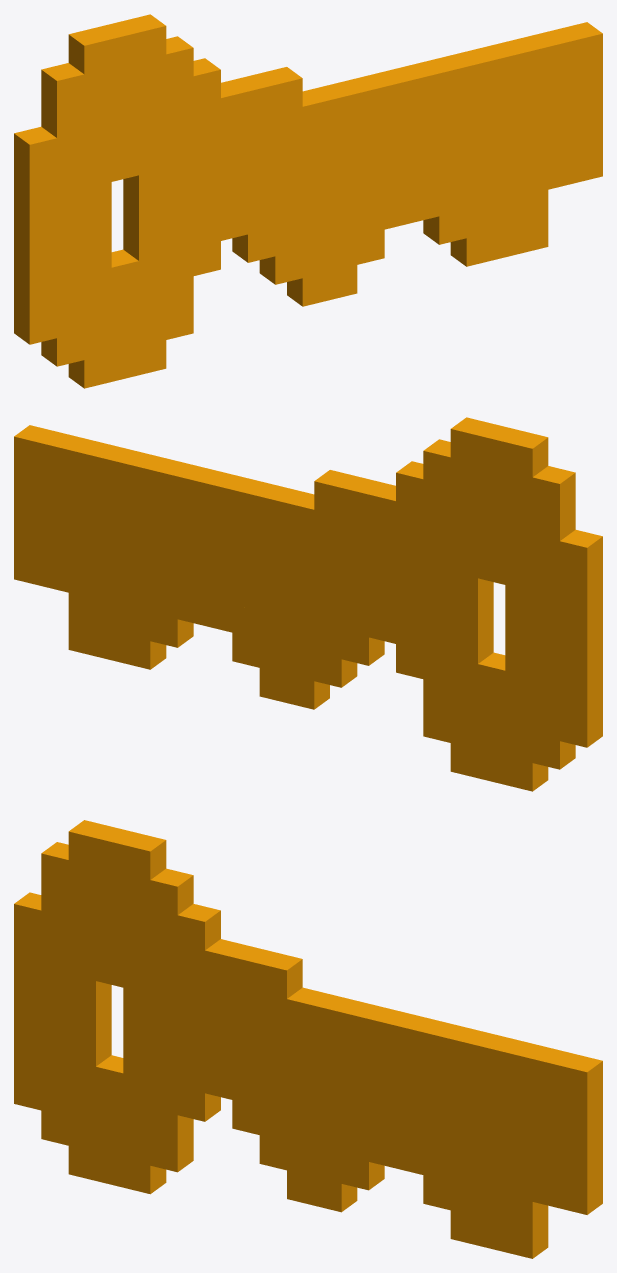
Rendered from key.fbx.
3 views of the same model, one above another, from view 1: azimuth 30°, elevation 25°; view 2: azimuth 150°, elevation 25°; view 3: azimuth 330°, elevation 25° (orthographic).
Visible parts, largest first — view 1: generated; view 2: generated; view 3: generated.
Part boxes in pixels (box(x1,y1,x2,y2)): generated: box(14, 14, 602, 388); generated: box(14, 417, 602, 791); generated: box(14, 820, 602, 1258).
Bounding box in the file's own units: 210 × 120 × 10.
